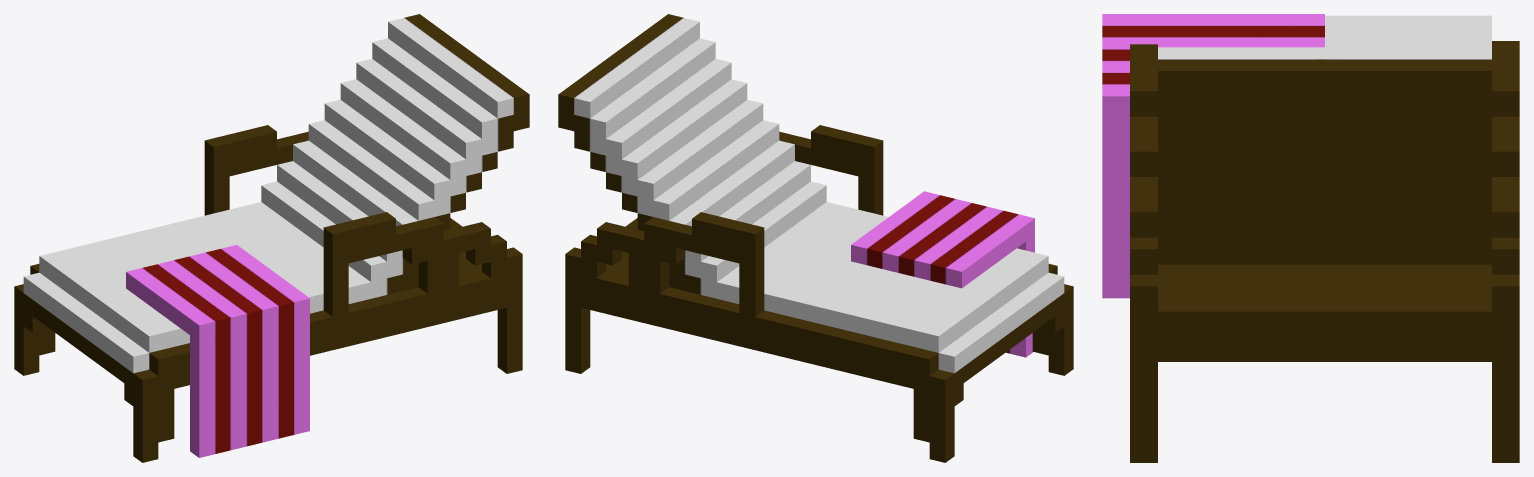
File: beach_chair_5.fbx
The picture shows the model from 3 angles, left to right: view 1: azimuth 30°, elevation 25°; view 2: azimuth 150°, elevation 25°; view 3: azimuth 270°, elevation 25°; orthographic projection. The views are drawn at different scales.
Visible parts, largest first — view 1: beach_chair_5; view 2: beach_chair_5; view 3: beach_chair_5.
Boxes of the visible parts, x1,y1,x2,y2 form: beach_chair_5: [14, 14, 529, 462]; beach_chair_5: [558, 14, 1073, 462]; beach_chair_5: [1102, 14, 1519, 462].
Size of the model in its own units: 25 by 16 by 15.
